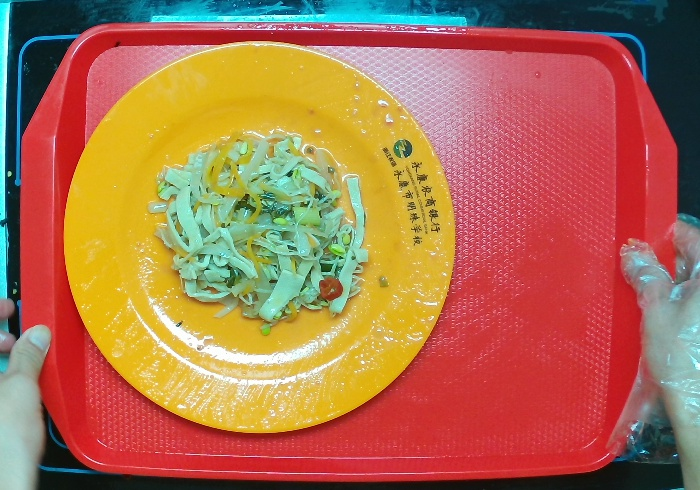YKMZ-Ju_Se_Mian_Pan: (52, 38, 460, 442)
